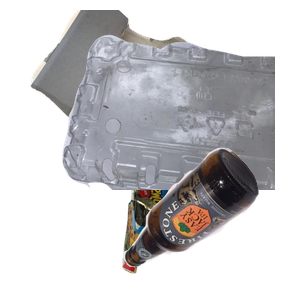glass: (120, 145, 300, 300)
paper: (28, 10, 268, 190)
plastic: (60, 32, 300, 212)
trash: (120, 131, 290, 300)
